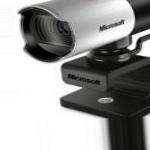webcam: (15, 1, 150, 70)
